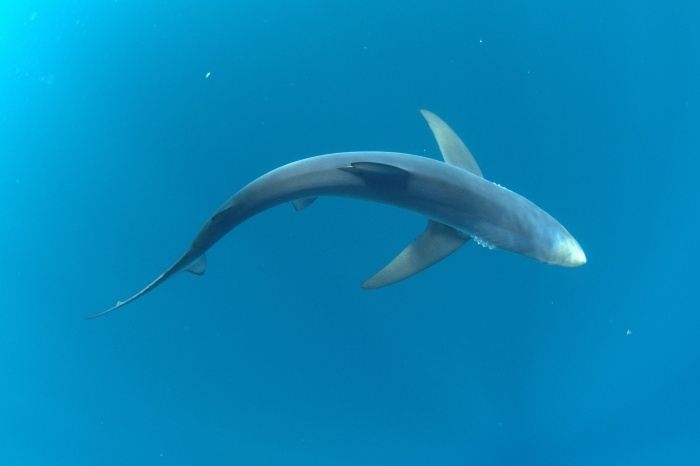Azul: (68, 84, 609, 352)
